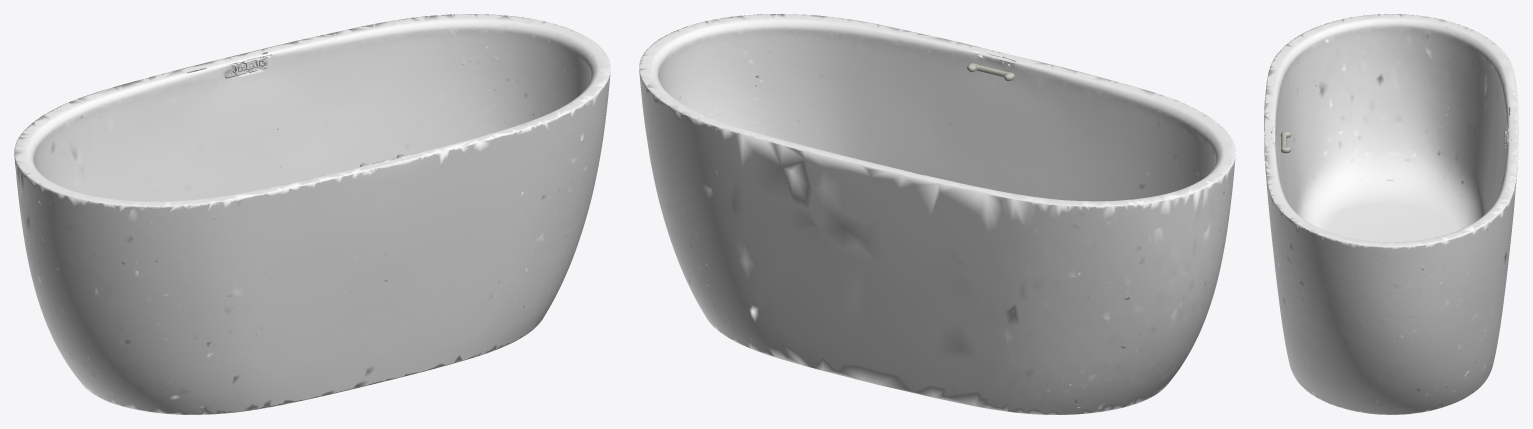
The model's file is bathtub.glb.
3 renders of one model, left to right at view 1: azimuth 30°, elevation 25°; view 2: azimuth 150°, elevation 25°; view 3: azimuth 270°, elevation 25°, orthographic. The views are drawn at different scales.
Visible parts, largest first — view 1: geometry_0; view 2: geometry_0; view 3: geometry_0.
Boxes of the visible parts, x1,y1,x2,y2 form: geometry_0: (14,14,610,414); geometry_0: (639,14,1235,414); geometry_0: (1264,14,1518,414).
Size of the model in its own units: 1.7 by 0.6587 by 0.7868.
1 material, 1 textured.
